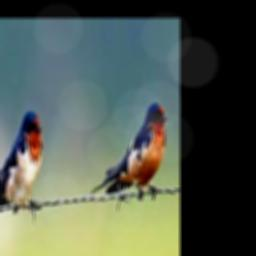Swallow: (91, 101, 170, 198), (0, 111, 44, 219)
